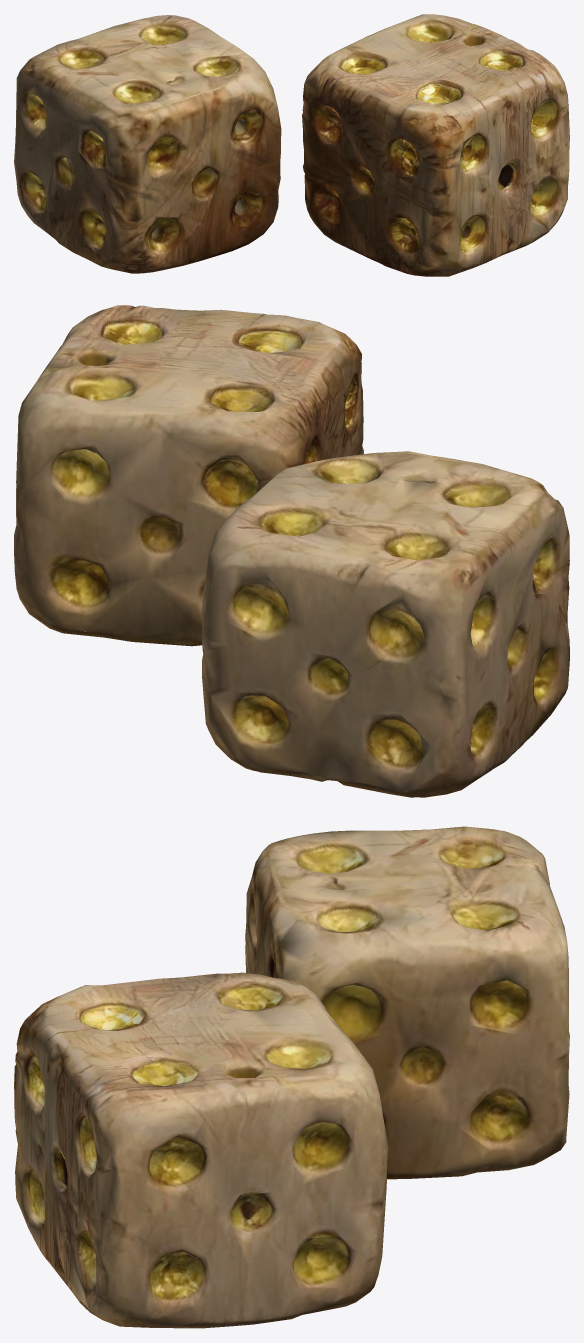
The model's file is dice.glb.
The picture shows the model from 3 angles, top to bottom: view 1: azimuth 30°, elevation 25°; view 2: azimuth 150°, elevation 25°; view 3: azimuth 270°, elevation 25°; orthographic projection. The views are drawn at different scales.
Parts seen in each view (by area): view 1: tripo_node_e005c7b2-5763-475c-92ea-635c99ea949d; view 2: tripo_node_e005c7b2-5763-475c-92ea-635c99ea949d; view 3: tripo_node_e005c7b2-5763-475c-92ea-635c99ea949d.
Boxes of the visible parts, box(x1,y1,x2,y2) form: tripo_node_e005c7b2-5763-475c-92ea-635c99ea949d: box(14, 14, 569, 276); tripo_node_e005c7b2-5763-475c-92ea-635c99ea949d: box(14, 305, 569, 797); tripo_node_e005c7b2-5763-475c-92ea-635c99ea949d: box(14, 826, 569, 1328).
Size of the model in its own units: 0.9789 by 0.378 by 0.7946.
Materials: 1 (1 with a texture image).
